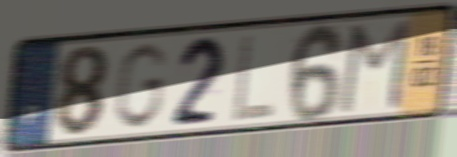2: (166, 32, 231, 133)
6: (286, 18, 348, 124)
8: (52, 42, 111, 139)
G: (110, 39, 171, 132)
L: (229, 30, 278, 126)
M: (335, 16, 414, 117)
